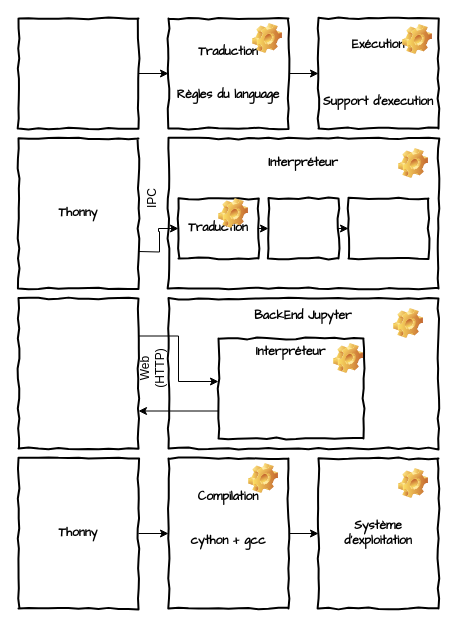
Image size: 456x626. Some labels were removed from this diagram. Each missing label, with the centre of its shape:
ByteCode: the point at 303,228
Edition Syntaxe: the point at 78,73
Jupyter: the point at 78,373
Machine Virtuelle: the point at 388,228
